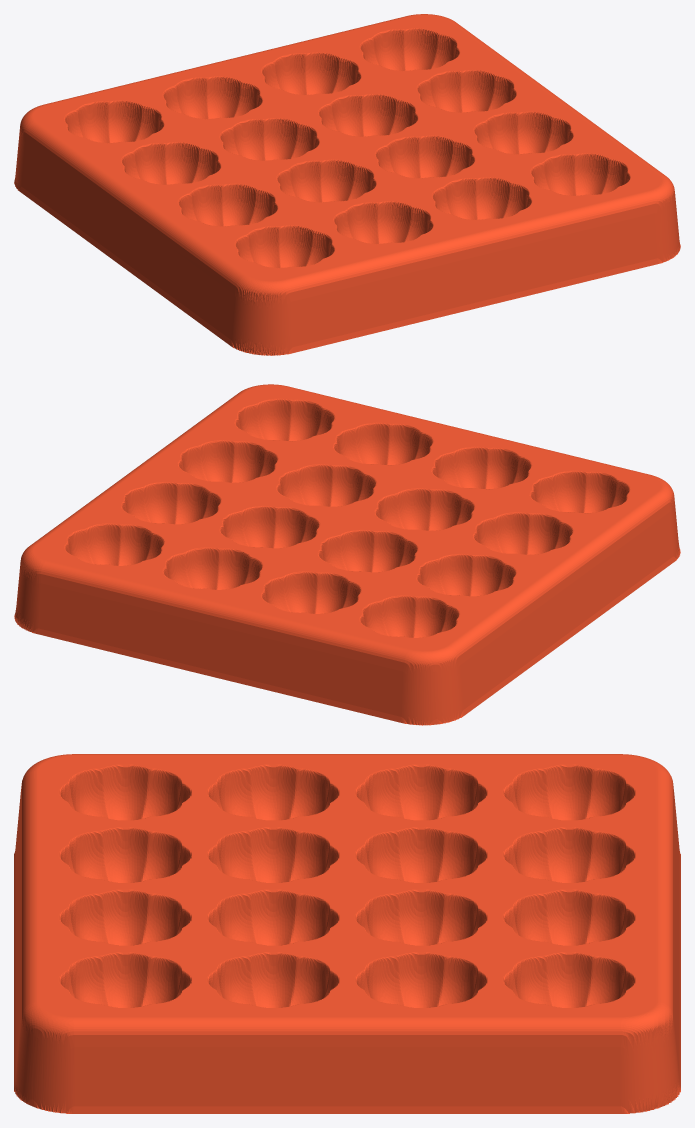
File: mold.glb
3 views of the same model, one above another, from view 1: azimuth 30°, elevation 25°; view 2: azimuth 150°, elevation 25°; view 3: azimuth 270°, elevation 25° (orthographic). The views are drawn at different scales.
Visible parts, largest first — view 1: geometry_0; view 2: geometry_0; view 3: geometry_0.
Boxes of the visible parts, x1,y1,x2,y2 form: geometry_0: [14, 14, 680, 355]; geometry_0: [14, 384, 680, 725]; geometry_0: [14, 754, 680, 1113].
Size of the model in its own units: 0.0992 by 0.0142 by 0.0992.
